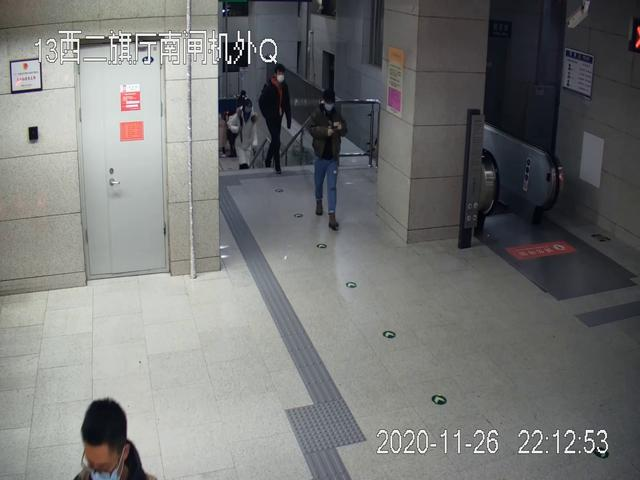person: (72, 397, 156, 480), (306, 91, 348, 231), (258, 61, 294, 173), (227, 96, 259, 176)
